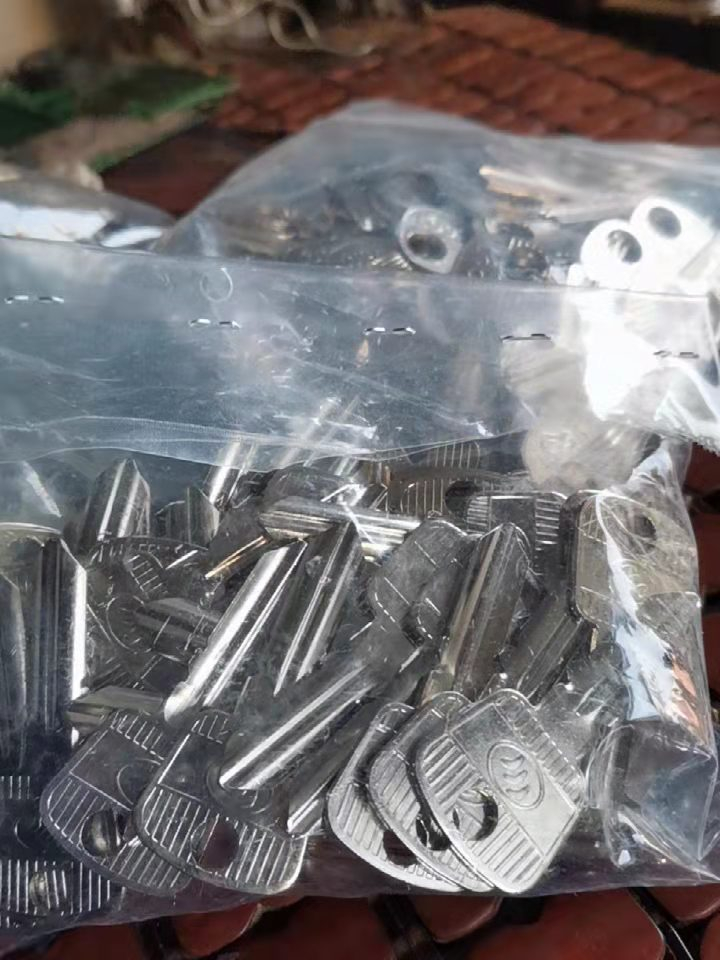key: (33, 512, 272, 884), (241, 502, 488, 791), (441, 653, 669, 899), (315, 820, 328, 915)
